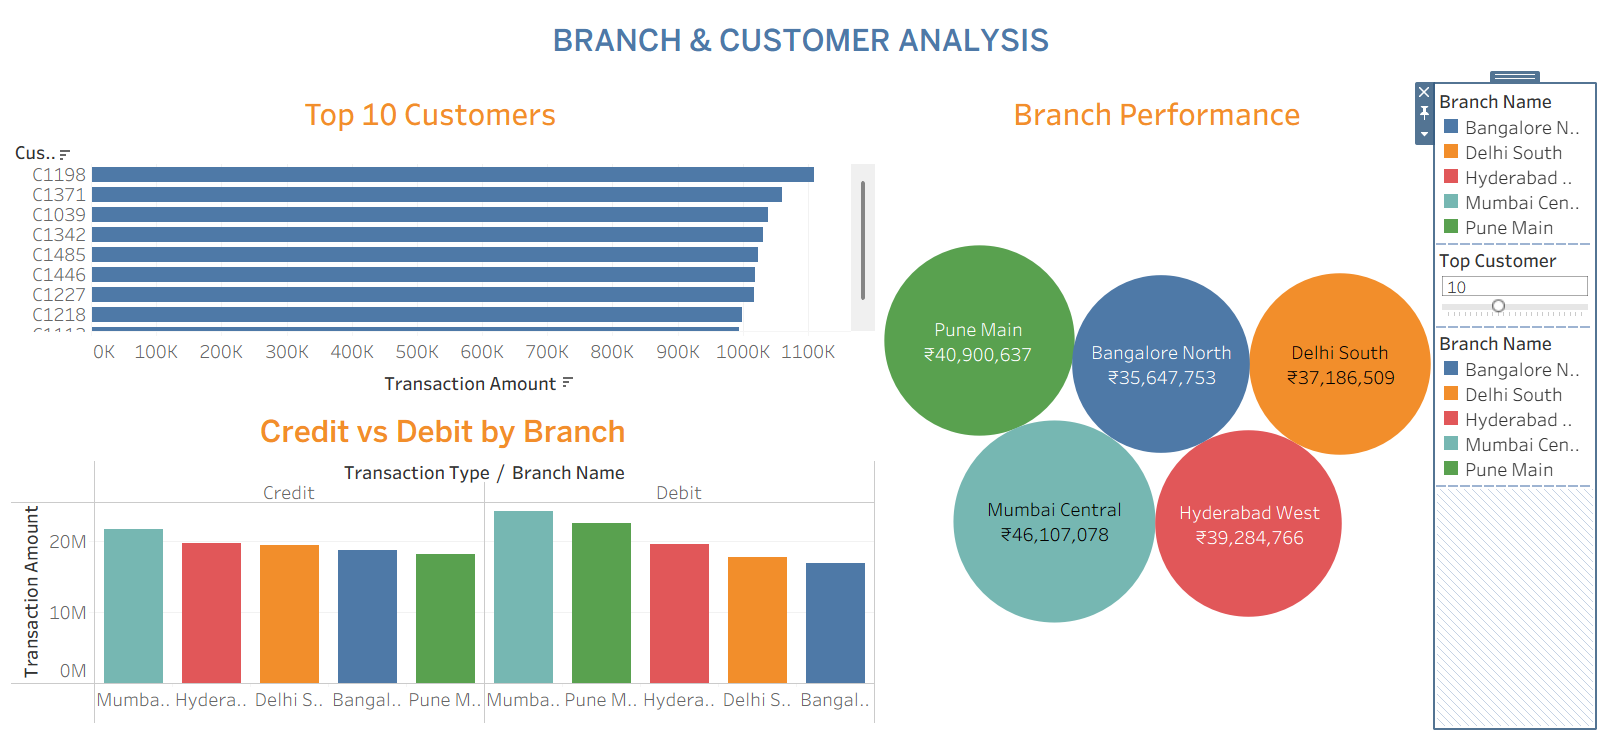

Layout of this report page (visuals, bound fields, positions):
{"tool":"tableau","page":{"name":"Dashboard 2","canvas":[1000,1000],"units":"permille","ordinal":1},"visuals":[{"type":"text","box":[5,10.7,990,115.3]},{"type":"worksheet","title":"Sheet 9","mark":"Automatic","rows":["Customer ID"],"cols":["Transaction Amount"],"box":[5,126,543.6,431.6]},{"type":"worksheet","title":"Sheet 7","mark":"Circle","box":[548.6,126,346.6,863.3]},{"type":"legend","title":"Sheet 7","param":"[federated.1l0fd5g0equtmm1236foh0vm7iet].[none:Branch Name:nk]","box":[895.3,126,99.8,213.1]},{"type":"parameter","param":"[Parameters].[Parameter 1]","box":[895.3,339.1,99.8,111.3]},{"type":"legend","title":"Sheet 8","param":"[federated.1l0fd5g0equtmm1236foh0vm7iet].[none:Branch Name:nk]","box":[895.3,450.4,99.8,213.1]},{"type":"worksheet","title":"Sheet 8","mark":"Automatic","rows":["Transaction Amount"],"cols":["Transaction Type","Branch Name"],"box":[5,557.6,543.6,431.6]}]}

Visuals, with their boxes on the dashboard's canvas, which has no fixed pixel size, in thousandths of its width and height (x1, y1, x2, y2). These are canvas units, not pixel positions in the 1603x733 screenshot, which may show the page scaled, cropped or inside an application window:
text: (5, 11, 995, 126)
"Sheet 9" worksheet: (5, 126, 549, 558)
"Sheet 7" worksheet (Circle marks): (549, 126, 895, 989)
"Sheet 7" legend: (895, 126, 995, 339)
parameter: (895, 339, 995, 450)
"Sheet 8" legend: (895, 450, 995, 664)
"Sheet 8" worksheet: (5, 558, 549, 989)
